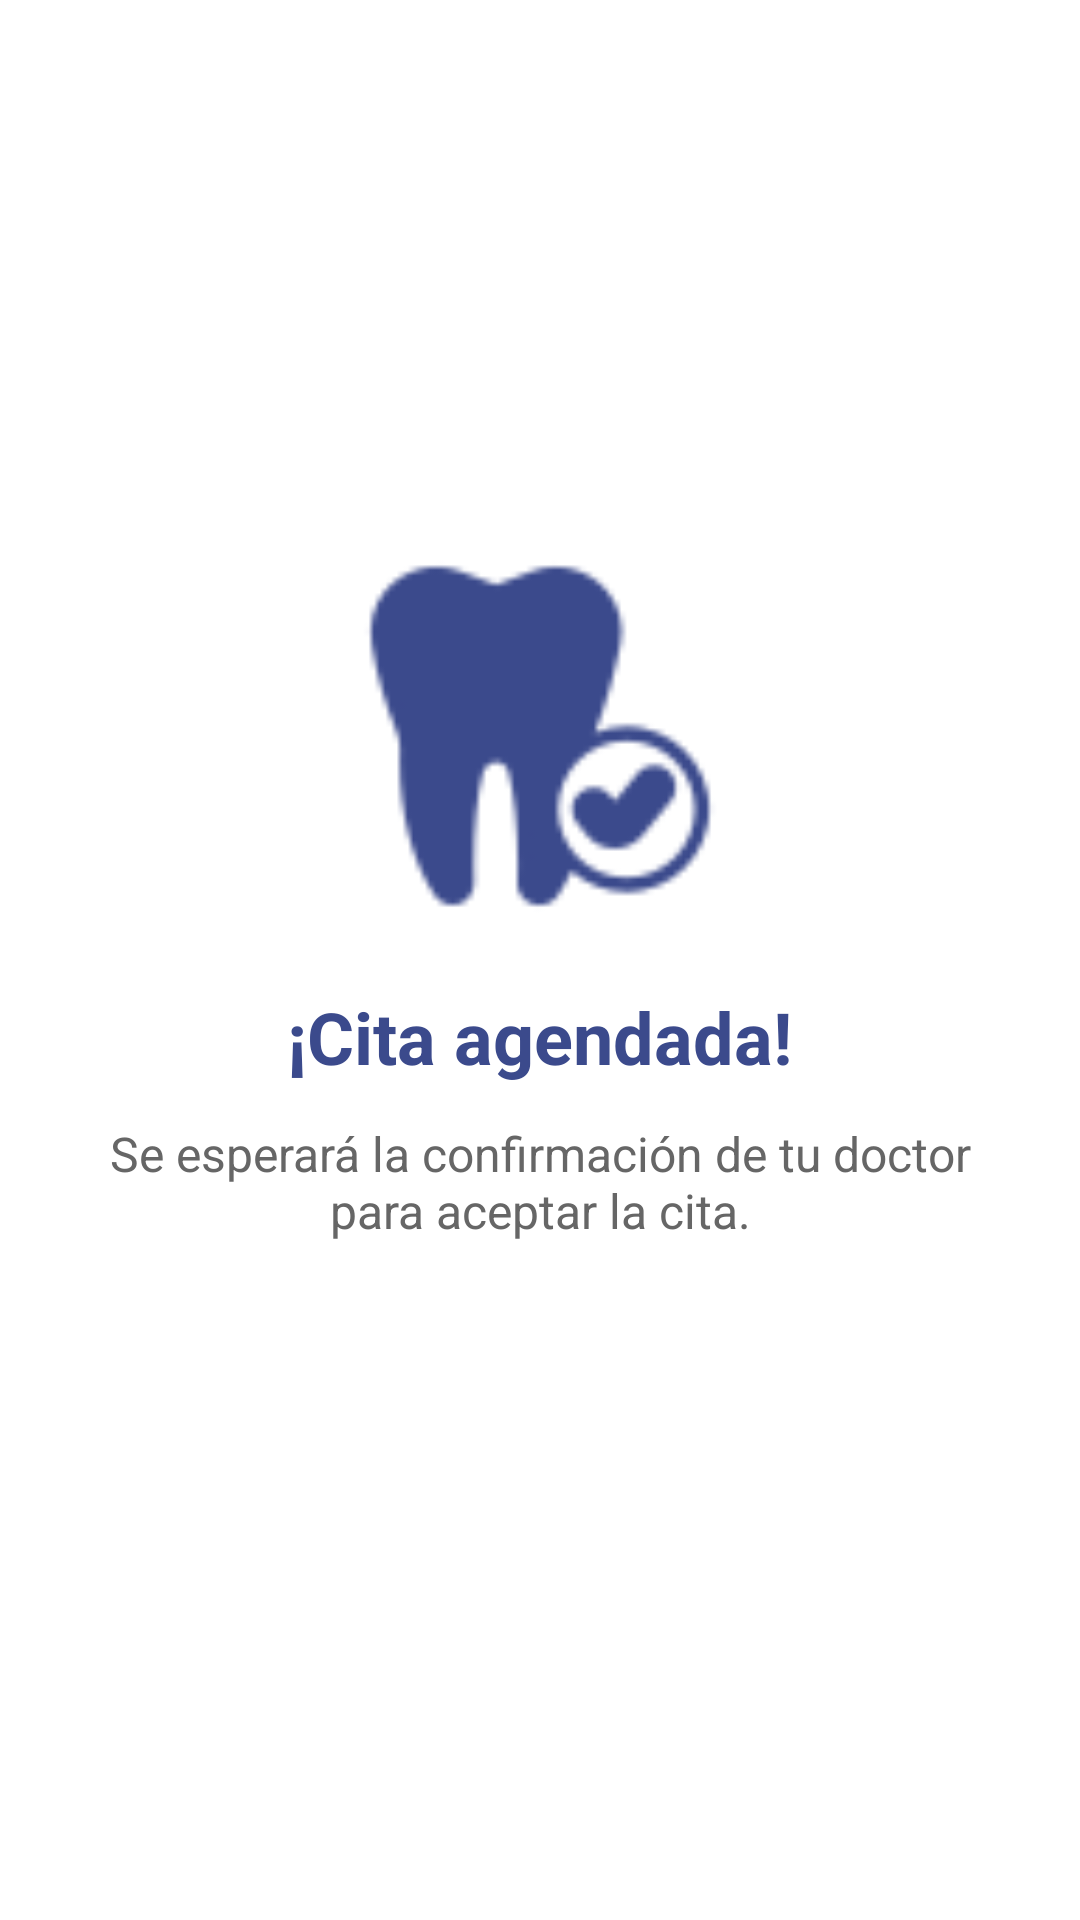

Locate icon controls on the screen. Image size 1080px x 1920px, boxes as (x1, y1, x2, y2).
check: (369, 565, 711, 907)
